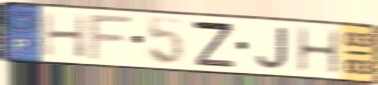5: (144, 17, 187, 68)
F: (87, 14, 136, 62)
H: (295, 26, 343, 76), (42, 11, 89, 60)
J: (253, 25, 290, 71)
Z: (190, 19, 237, 70)
